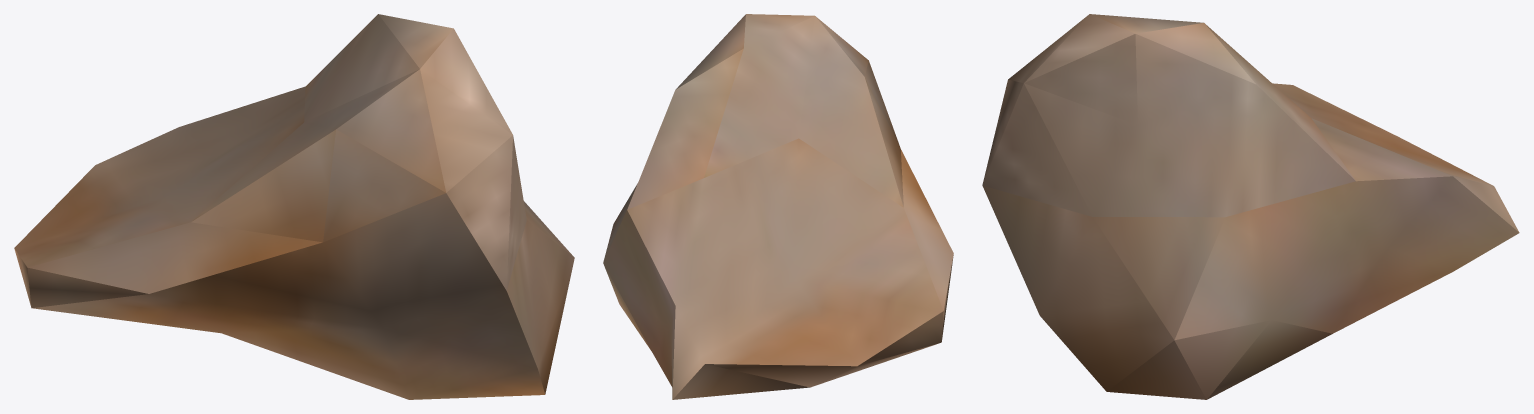
File: cascote_2.glb
The picture shows the model from 3 angles, left to right: view 1: azimuth 30°, elevation 25°; view 2: azimuth 150°, elevation 25°; view 3: azimuth 270°, elevation 25°; orthographic projection. The views are drawn at different scales.
Parts seen in each view (by area): view 1: cascote_2_malla; view 2: cascote_2_malla; view 3: cascote_2_malla.
Part boxes in pixels (box(x1,y1,x2,y2)): cascote_2_malla: box(14, 14, 574, 399); cascote_2_malla: box(603, 14, 953, 399); cascote_2_malla: box(982, 14, 1519, 399).
Bounding box in the file's own units: 0.0889 × 0.0663 × 0.0985.
1 material, 1 textured.
